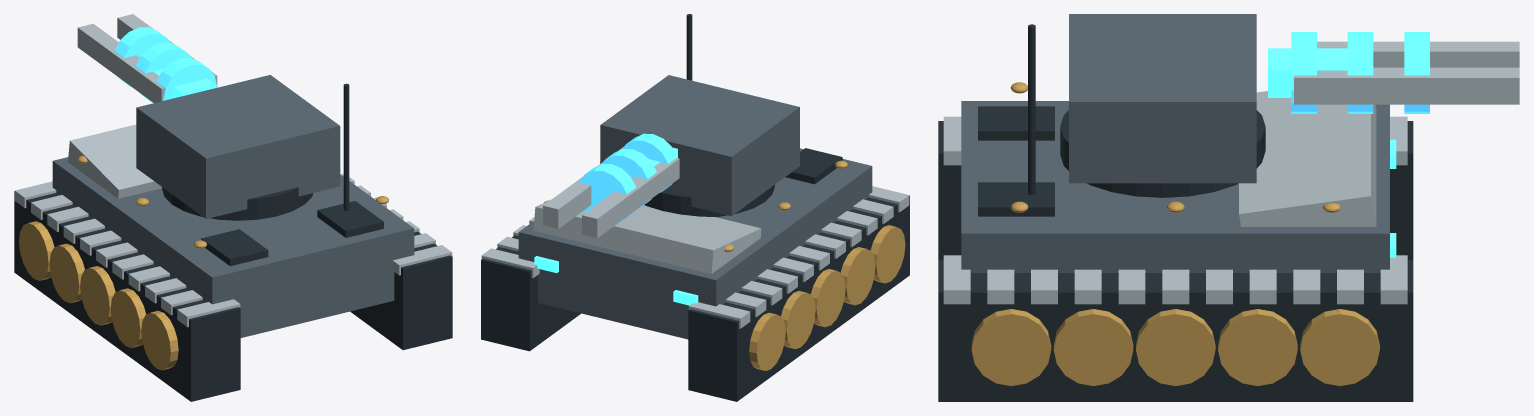
Rendered from laser-tank.glb.
The picture shows the model from 3 angles, left to right: view 1: azimuth 30°, elevation 25°; view 2: azimuth 150°, elevation 25°; view 3: azimuth 270°, elevation 25°; orthographic projection. The views are drawn at different scales.
Parts seen in each view (by area): view 1: armored lower hull, turret upper armor, carbon continuous track, carbon continuous track.001, sloped glacis, split accelerator rail, turret ring, track road wheel, track road wheel.003, track road wheel.002, track road wheel.004, track road wheel.001 (+20 smaller); view 2: armored lower hull, turret upper armor, carbon continuous track, sloped glacis, carbon continuous track.001, split accelerator rail, track road wheel.004, track road wheel.003, track road wheel, track road wheel.001, track road wheel.002, split accelerator rail.001 (+18 smaller); view 3: armored lower hull, turret upper armor, carbon continuous track.001, sloped glacis, split accelerator rail.001, track road wheel.006, track road wheel.005, track road wheel.008, track road wheel.007, track road wheel.009, carbon continuous track, split accelerator rail (+21 smaller).
Part boxes in pixels (x1=…): armored lower hull: x1=52, y1=157, x2=414, y2=337; turret upper armor: x1=136, y1=75, x2=340, y2=218; carbon continuous track: x1=14, y1=191, x2=240, y2=401; carbon continuous track.001: x1=350, y1=231, x2=452, y2=350; sloped glacis: x1=68, y1=124, x2=161, y2=198; split accelerator rail: x1=77, y1=23, x2=164, y2=102; turret ring: x1=162, y1=187, x2=313, y2=220; track road wheel: x1=141, y1=310, x2=178, y2=370; track road wheel.003: x1=49, y1=243, x2=84, y2=303; track road wheel.002: x1=80, y1=266, x2=115, y2=325; track road wheel.004: x1=19, y1=221, x2=54, y2=280; track road wheel.001: x1=110, y1=288, x2=146, y2=347; armored lower hull: x1=518, y1=148, x2=872, y2=339; turret upper armor: x1=600, y1=75, x2=799, y2=215; carbon continuous track: x1=688, y1=195, x2=909, y2=401; sloped glacis: x1=533, y1=199, x2=761, y2=273; carbon continuous track.001: x1=481, y1=235, x2=581, y2=351; split accelerator rail: x1=582, y1=158, x2=679, y2=238; track road wheel.004: x1=749, y1=312, x2=785, y2=370; track road wheel.003: x1=781, y1=291, x2=815, y2=349; track road wheel: x1=870, y1=225, x2=905, y2=283; track road wheel.001: x1=840, y1=247, x2=875, y2=305; track road wheel.002: x1=810, y1=269, x2=845, y2=327; split accelerator rail.001: x1=543, y1=147, x2=623, y2=228; armored lower hull: x1=961, y1=101, x2=1389, y2=272; turret upper armor: x1=1069, y1=14, x2=1256, y2=183; carbon continuous track.001: x1=938, y1=260, x2=1413, y2=401; sloped glacis: x1=1239, y1=91, x2=1376, y2=226; split accelerator rail.001: x1=1294, y1=67, x2=1519, y2=104; track road wheel.006: x1=1053, y1=309, x2=1133, y2=385; track road wheel.005: x1=971, y1=309, x2=1051, y2=386; track road wheel.008: x1=1218, y1=309, x2=1297, y2=385; track road wheel.007: x1=1136, y1=309, x2=1215, y2=386; track road wheel.009: x1=1300, y1=309, x2=1379, y2=385; carbon continuous track: x1=938, y1=121, x2=1413, y2=259; split accelerator rail: x1=1317, y1=41, x2=1519, y2=67.
Bounding box in the file's own units: 1.68 × 1.42 × 2.26.
